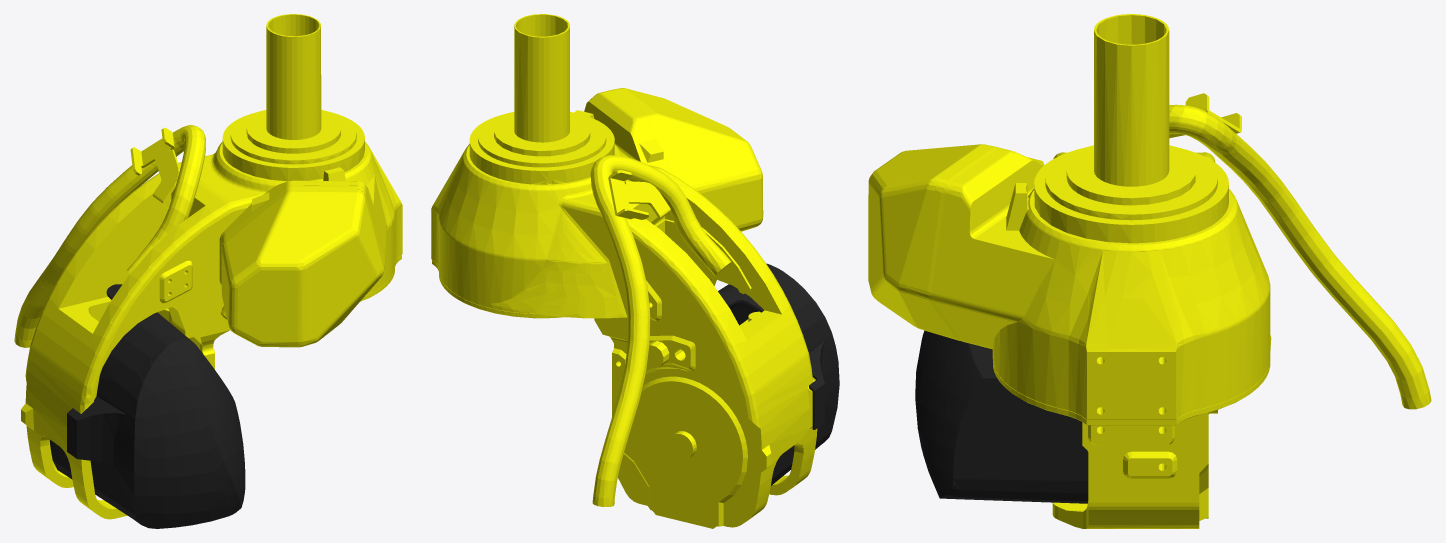
3 renders of one model, left to right at view 1: azimuth 30°, elevation 25°; view 2: azimuth 150°, elevation 25°; view 3: azimuth 270°, elevation 25°, orthographic. The views are drawn at different scales.
Visible parts, largest first — view 1: node; view 2: node; view 3: node.
Boxes of the visible parts, <box> form: node: <box>14,14,402,528</box>; node: <box>431,14,839,528</box>; node: <box>868,14,1431,528</box>.
Size of the model in its own units: 435 by 521 by 456.
